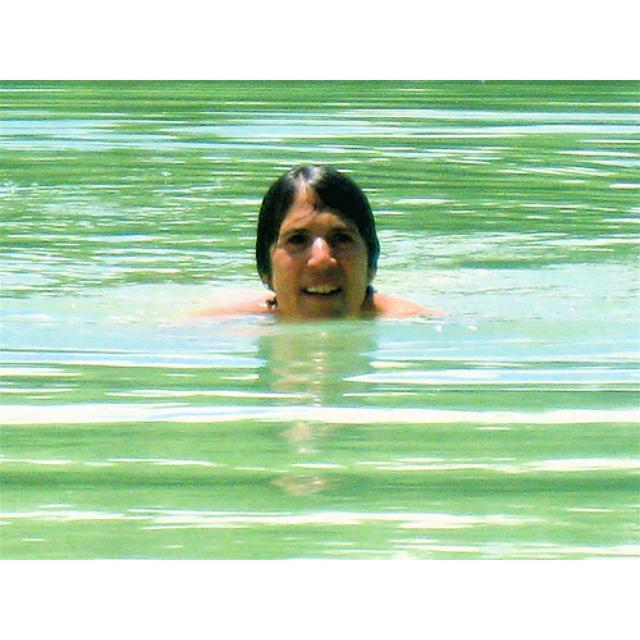human: (247, 159, 424, 322)
